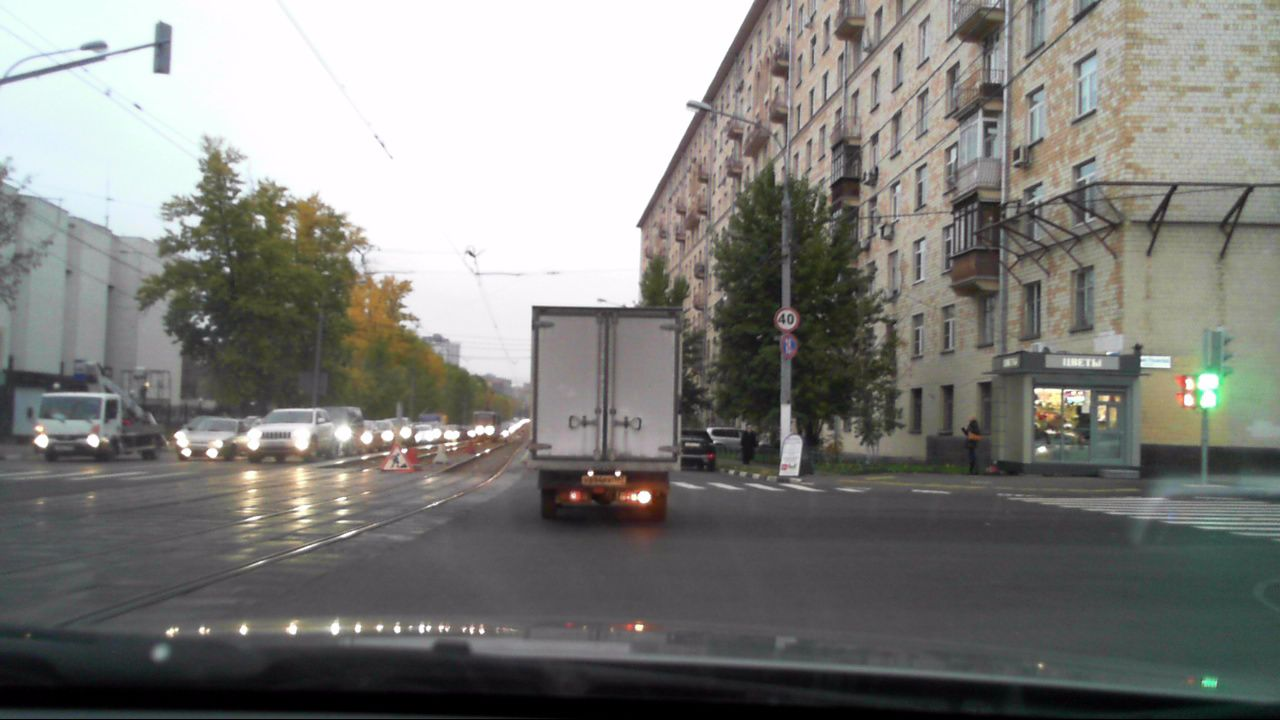speed_warning_40: (774, 306, 798, 331)
